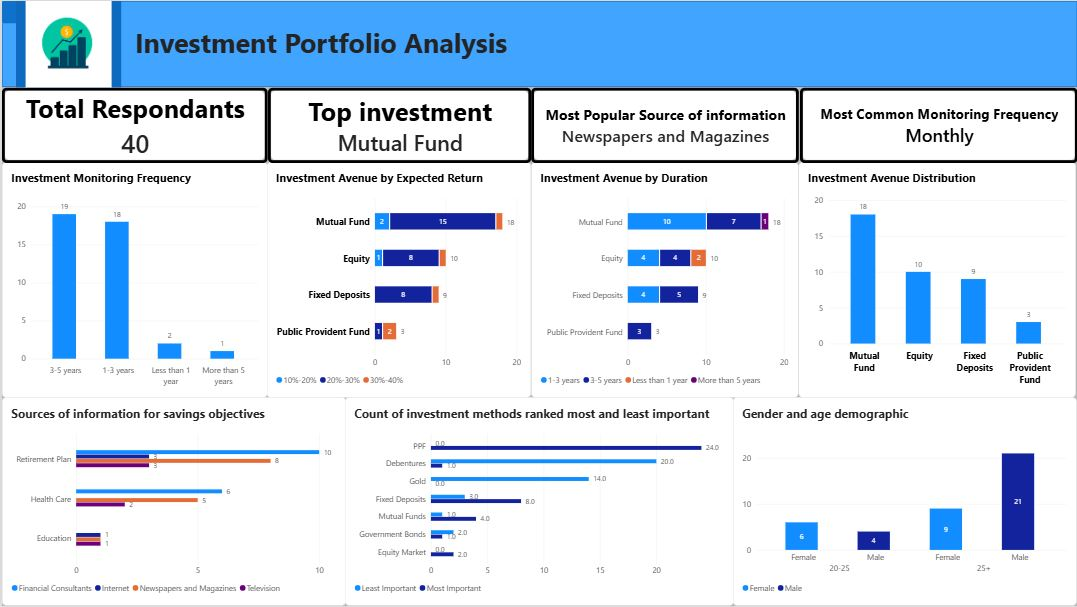

The dashboard page shown, as its layout file describes it:
{"tool":"powerbi","page":{"name":"Page 1","canvas":[1920,1080],"ordinal":0},"visuals":[{"type":"columnChart","title":"Investment Avenue Distribution","fields":{"Category":["Query5.Avenue"],"Y":["Sum(Query5.COUNT(*))"]},"box":[1422,288,494.9,420.5],"z":0},{"type":"barChart","title":"Investment Avenue by Expected Return","fields":{"Category":["Query5.Avenue"],"Series":["Query5.Expected_Return"],"Y":["Sum(Query5.COUNT(*))"]},"box":[472,288,471.8,420.5],"z":1000},{"type":"barChart","title":"Investment Avenue by Duration","fields":{"Category":["Query5.Avenue"],"Series":["Query5.Duration"],"Y":["Sum(Query5.COUNT(*))"]},"box":[944,288,476.9,420.5],"z":2000},{"type":"columnChart","title":"Investment Monitoring Frequency ","fields":{"Category":["Query5.Duration"],"Y":["Sum(Query5.COUNT(*))"]},"box":[0,288,474.4,420.5],"z":3000},{"type":"shape","box":[0,0,1920,153.3],"z":4000},{"type":"actionButton","box":[0,0,100,40],"z":5000},{"type":"textbox","box":[236.7,40,787.5,80],"z":6000},{"type":"cardVisual","fields":{"Data":["Query5.Total Respondants"]},"box":[0,153.3,575.6,135.6],"z":7000},{"type":"cardVisual","fields":{"Data":["Query2.Top Most Important Investment"]},"box":[575.6,151.1,731.1,133.3],"z":8000},{"type":"cardVisual","fields":{"Data":["Query4.Top Source"]},"box":[1306.7,153.3,613.3,133.3],"z":9000},{"type":"columnChart","title":"Gender and age demographic","fields":{"Category":["Query1.Age_Group","Query1.gender"],"Series":["Query1.gender"],"Y":["Sum(Query1.Count)"]},"box":[1306,708,614,372],"z":11000},{"type":"clusteredBarChart","title":"Count of investment methods ranked most and least important","fields":{"Category":["Query2.Investment"],"Series":["Query2.Importance"],"Y":["Sum(Query2.Count)"]},"box":[612,708,694,372],"z":12000},{"type":"clusteredBarChart","title":"Sources of information for savings objectives","fields":{"Category":["Query4.Savings_Objectives"],"Series":["Query4.Source"],"Y":["Sum(Query4.COUNT(*))"]},"box":[0,708,614,372],"z":13000},{"type":"image","box":[24,0,188,154],"z":14000}]}

Visuals, with their boxes in screenshot pixels (x1, y1, x2, y2), scaled from the page's 1920x1080 canvas onto the 1077x607 screenshot:
"Investment Avenue Distribution" columnChart: 798 162 1075 398
"Investment Avenue by Expected Return" barChart: 265 162 529 398
"Investment Avenue by Duration" barChart: 530 162 797 398
"Investment Monitoring Frequency " columnChart: 0 162 266 398
shape: 0 0 1076 86
actionButton: 0 0 56 22
textbox: 133 22 575 67
cardVisual - Query5.Total Respondants: 0 86 323 162
cardVisual - Query2.Top Most Important Investment: 323 85 733 160
cardVisual - Query4.Top Source: 733 86 1076 161
"Gender and age demographic" columnChart: 733 398 1076 606
"Count of investment methods ranked most and least important" clusteredBarChart: 343 398 733 606
"Sources of information for savings objectives" clusteredBarChart: 0 398 344 606
image: 13 0 119 87
